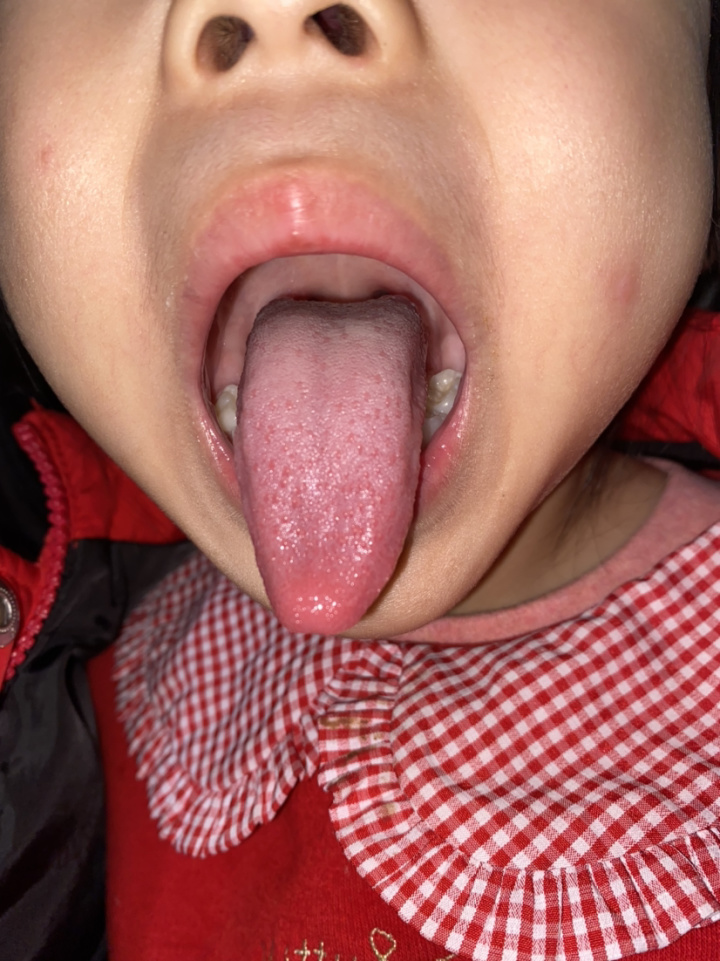baitaishe: (236, 292, 431, 636)
hongshe: (236, 293, 431, 637)
shoushe: (236, 292, 431, 636)
